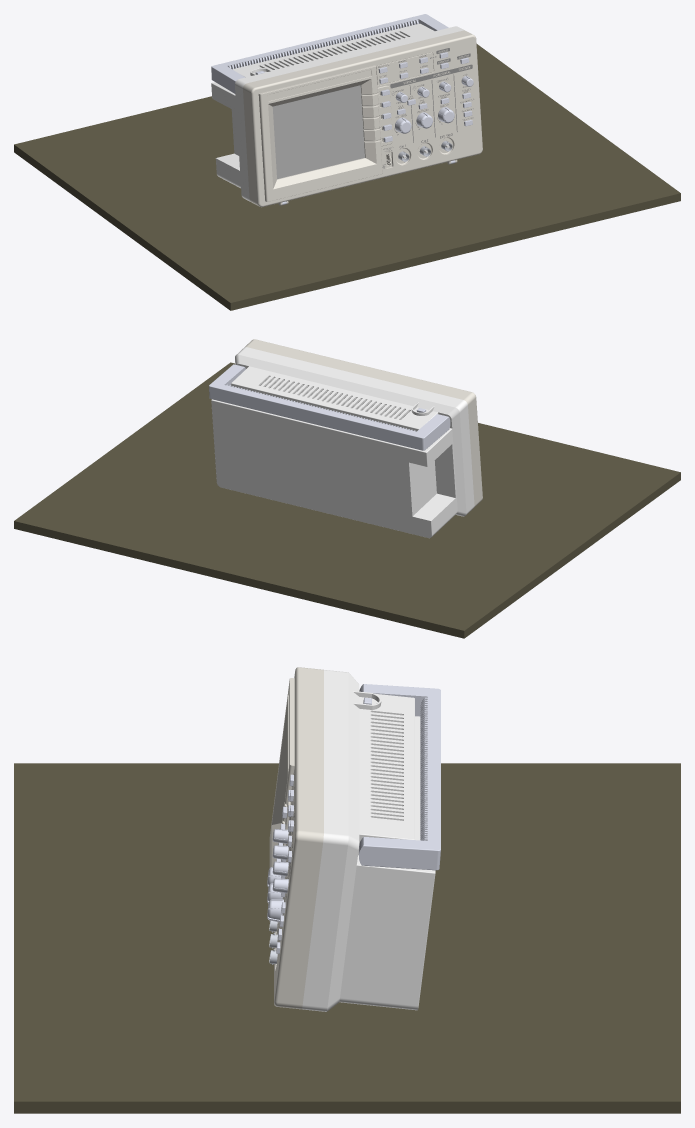
File: osciloscopio v3.glb
3 renders of one model, top to bottom at view 1: azimuth 30°, elevation 25°; view 2: azimuth 150°, elevation 25°; view 3: azimuth 270°, elevation 25°, orthographic. The views are drawn at different scales.
Parts seen in each view (by area): view 1: table, frontPanel, screen, backPane, handle; view 2: table, backPane, handle, frontPanel; view 3: table, backPane, frontPanel, handle.
Part boxes in pixels (x1,y1,x2,y2): table: (14, 44, 680, 310); frontPanel: (243, 30, 482, 207); screen: (272, 85, 364, 179); backPane: (211, 23, 464, 201); handle: (211, 14, 448, 93); table: (14, 362, 680, 638); backPane: (211, 347, 474, 538); handle: (209, 364, 450, 450); frontPanel: (245, 339, 482, 506); table: (14, 763, 680, 1113); backPane: (302, 670, 435, 1011); frontPanel: (269, 667, 323, 1009); handle: (359, 684, 440, 870).
Size of the model in its own units: 0.6 by 0.1617 by 0.5.
